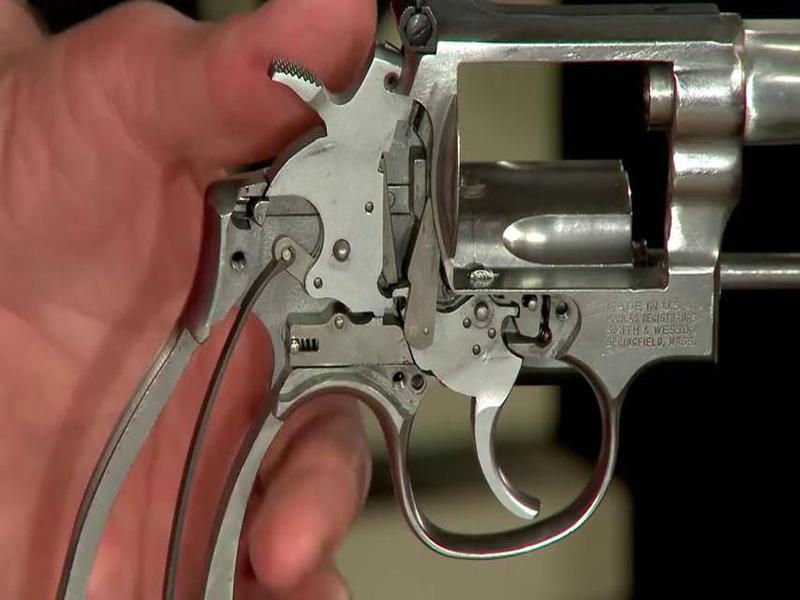Revolver: (96, 6, 800, 533)
